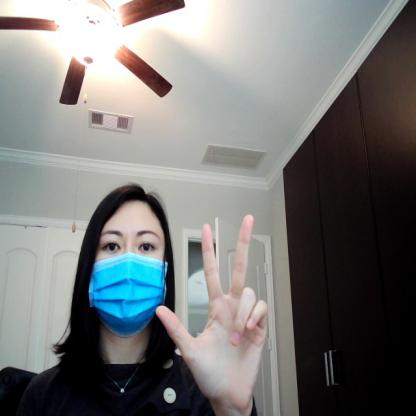three: (152, 209, 268, 412)
